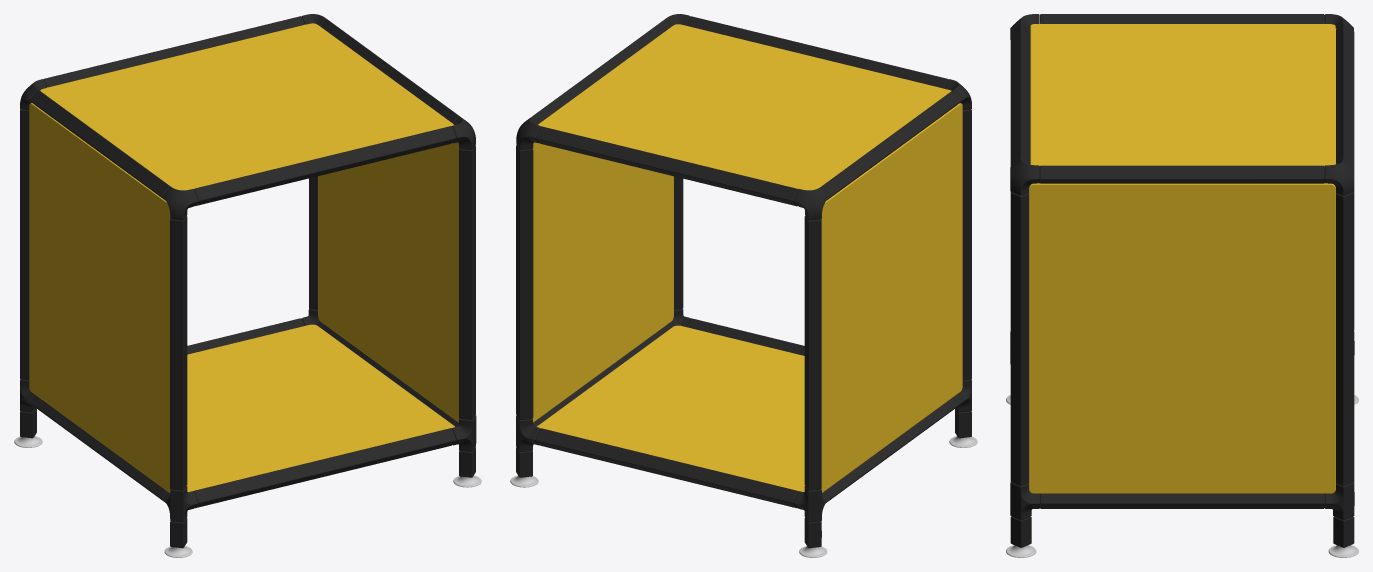
The picture shows the model from 3 angles, left to right: view 1: azimuth 30°, elevation 25°; view 2: azimuth 150°, elevation 25°; view 3: azimuth 270°, elevation 25°; orthographic projection. The views are drawn at different scales.
Parts seen in each view (by area): view 1: 420x374x420; view 2: 420x374x420; view 3: 420x374x420.
Boxes of the visible parts, bbox=[...] form: 420x374x420: bbox=[14, 14, 481, 557]; 420x374x420: bbox=[510, 14, 977, 557]; 420x374x420: bbox=[1006, 14, 1358, 557].
Size of the model in its own units: 0.5099 by 0.5593 by 0.4632.
